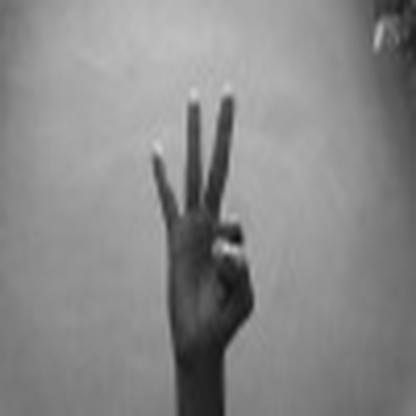f: (131, 86, 267, 345)
